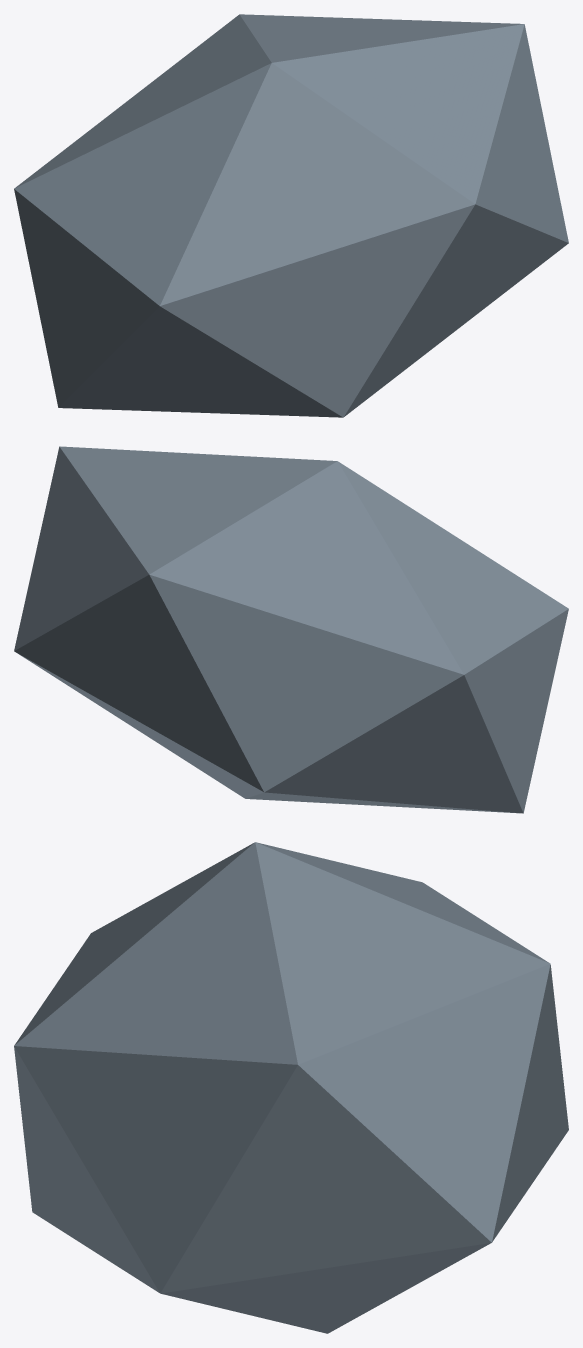
The model's file is INT_B_WallRubble_01_Stone_1.glb.
The picture shows the model from 3 angles, top to bottom: view 1: azimuth 30°, elevation 25°; view 2: azimuth 150°, elevation 25°; view 3: azimuth 270°, elevation 25°; orthographic projection. The views are drawn at different scales.
Visible parts, largest first — view 1: INT_B_WallRubble_01_Stone_1; view 2: INT_B_WallRubble_01_Stone_1; view 3: INT_B_WallRubble_01_Stone_1.
Boxes of the visible parts, x1=… form: INT_B_WallRubble_01_Stone_1: x1=14, y1=14, x2=568, y2=417; INT_B_WallRubble_01_Stone_1: x1=14, y1=446, x2=568, y2=813; INT_B_WallRubble_01_Stone_1: x1=14, y1=842, x2=568, y2=1333.
Size of the model in its own units: 0.5862 by 0.4073 by 0.4564.
